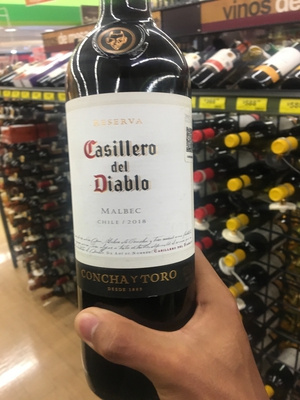casillero del diablo malbec: (57, 1, 208, 381)
